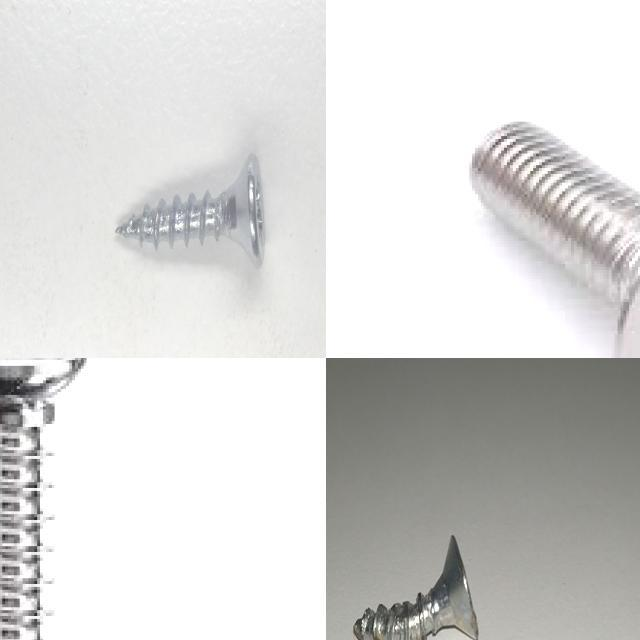Screw: (469, 122, 640, 358), (0, 358, 87, 640), (113, 154, 264, 268), (353, 534, 478, 640)
